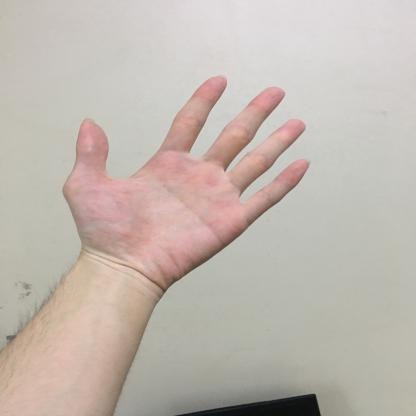bare_hand: (52, 66, 320, 292)
